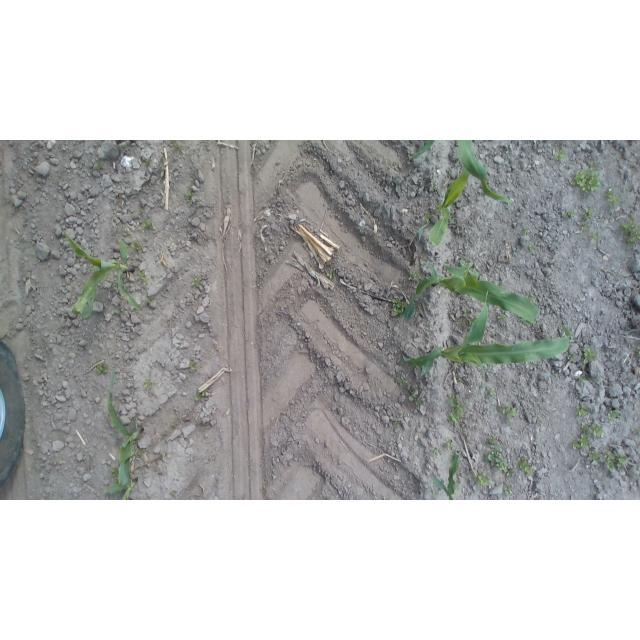Maize: (399, 297, 578, 375), (405, 259, 540, 329), (412, 141, 499, 247), (60, 225, 144, 320), (104, 367, 149, 499), (431, 450, 465, 498)
Weeds: (483, 436, 509, 475), (569, 166, 602, 194), (446, 395, 466, 428), (602, 450, 629, 473), (620, 215, 639, 247), (570, 432, 591, 452), (517, 456, 536, 477), (471, 471, 493, 489), (498, 403, 518, 422), (580, 422, 604, 437), (605, 188, 622, 208), (582, 345, 598, 366), (613, 451, 631, 469), (391, 296, 407, 316), (193, 389, 211, 404), (137, 269, 151, 288), (458, 312, 477, 325), (94, 361, 110, 376), (575, 402, 590, 418), (553, 148, 567, 165), (409, 393, 424, 408), (587, 231, 602, 245), (583, 207, 596, 223), (407, 269, 421, 283), (587, 449, 601, 463), (175, 142, 188, 157), (607, 408, 622, 421), (142, 218, 155, 232), (501, 482, 514, 496), (190, 275, 203, 289), (131, 240, 146, 252), (93, 159, 106, 172), (108, 465, 120, 479), (143, 376, 155, 390), (184, 189, 196, 203), (187, 360, 200, 372), (442, 437, 454, 449), (394, 417, 406, 429), (136, 204, 148, 215), (429, 180, 440, 192), (423, 212, 434, 224), (579, 220, 590, 232), (395, 377, 407, 388), (486, 387, 497, 399), (565, 209, 577, 220), (144, 295, 157, 305), (113, 306, 124, 317), (142, 157, 153, 168), (497, 312, 508, 323), (326, 268, 336, 280), (521, 225, 531, 236), (168, 490, 181, 498), (431, 447, 441, 457), (566, 353, 576, 363), (528, 243, 537, 254), (577, 374, 587, 383)
